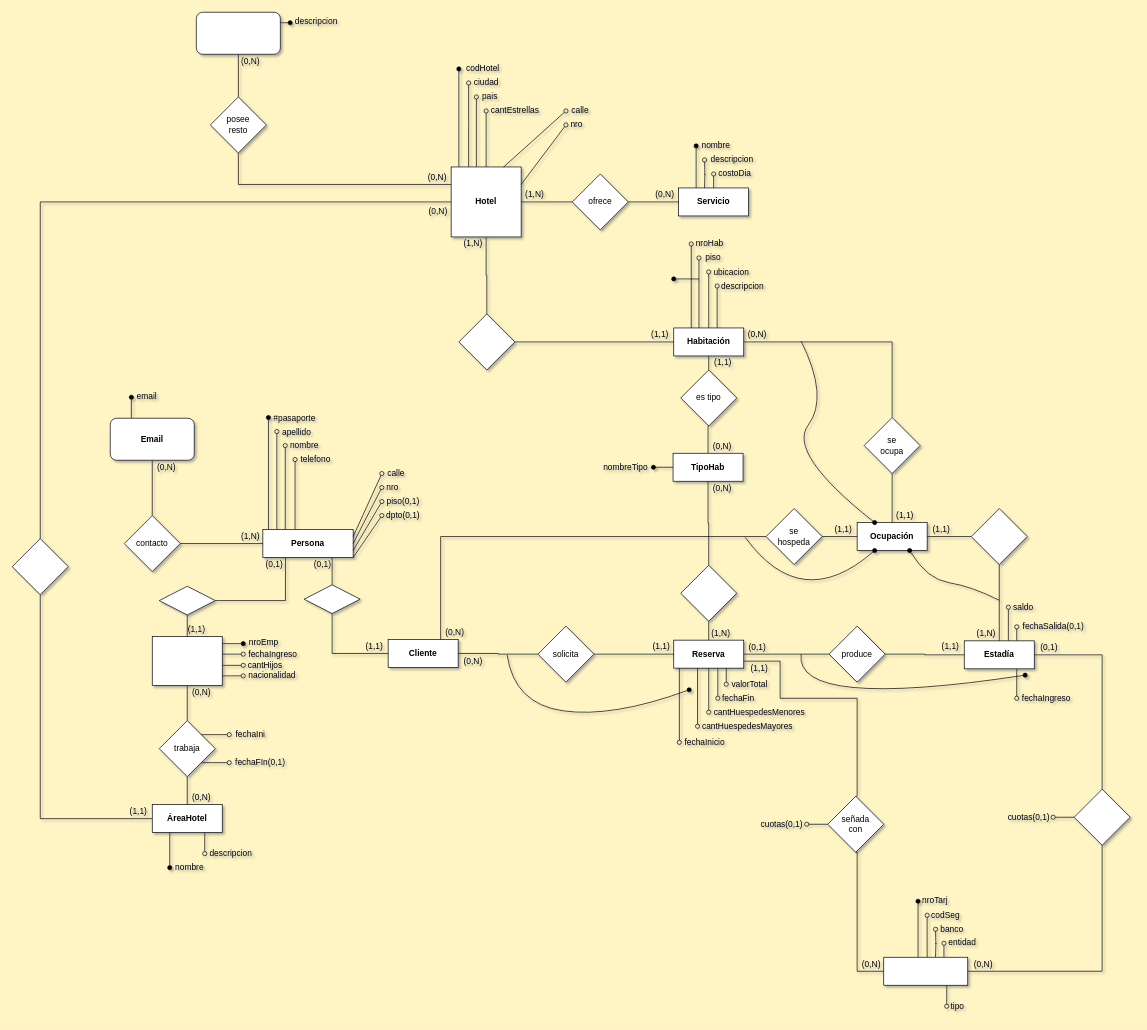
This 1147x1030 diagram has some shape labels left out. Here are the shapes that lost their labels. From the top down, the box of each, then its label:
(196, 12, 280, 54): Restaurante
(458, 313, 515, 370): posee hab
(971, 508, 1027, 565): registra
(12, 538, 68, 595): pertenece
(159, 586, 215, 615): es_emp
(303, 584, 360, 614): es_cliente
(680, 565, 737, 621): se reserva
(152, 636, 222, 686): Empleado
(1073, 789, 1130, 845): pagada con
(883, 957, 968, 985): Tarjeta
